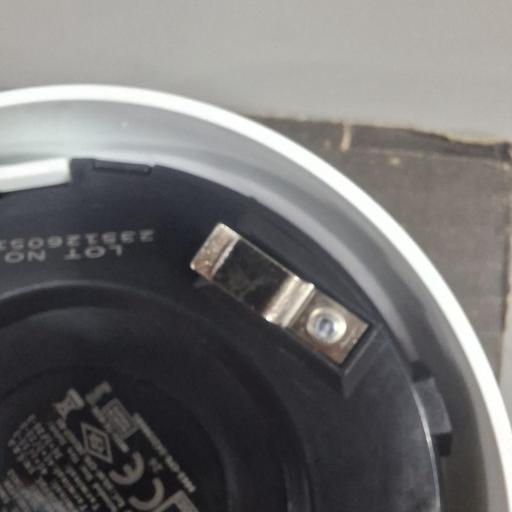yaysiz: (189, 223, 366, 366)
